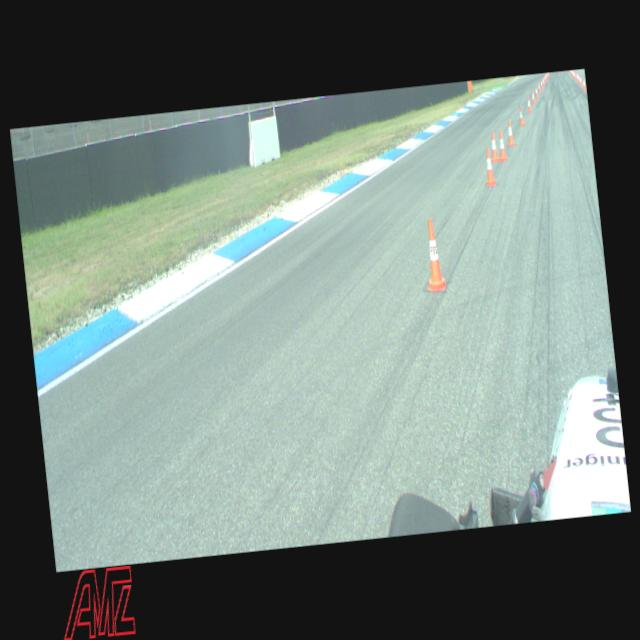orange_cone: (421, 218, 447, 291), (482, 146, 497, 187), (488, 130, 499, 162), (496, 130, 507, 160), (505, 118, 515, 146), (518, 104, 524, 126), (526, 96, 532, 112), (530, 89, 536, 104), (581, 77, 586, 90), (578, 74, 582, 86), (534, 85, 538, 96), (576, 73, 580, 84), (540, 79, 543, 89), (538, 81, 540, 92), (576, 71, 578, 82), (542, 76, 544, 85), (544, 74, 546, 82)
